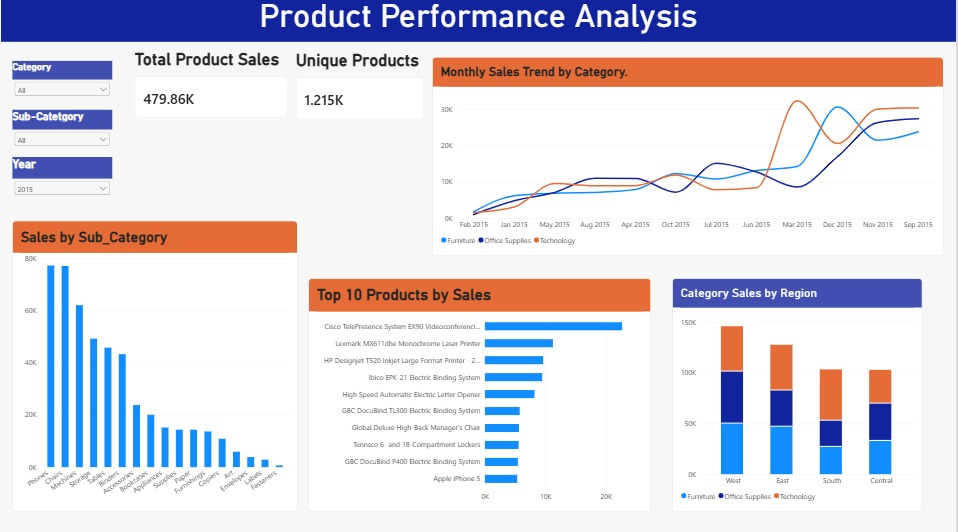

This screenshot's page, from the dashboard's own definition file:
{"tool":"powerbi","page":{"name":"Page 2","canvas":[1920,1080],"ordinal":1},"visuals":[{"type":"textbox","title":"Product Performance Analysis","box":[10,0,1910,280],"z":0},{"type":"cardVisual","title":"Total Product Sales","fields":{"Data":["Sum(superstore_cleaned.Sales)"]},"box":[277.5,105,305,137.5],"z":1},{"type":"cardVisual","title":"Unique Products","fields":{"Data":["Count(superstore_cleaned.Product_ID)"]},"box":[600,107.5,255,137.5],"z":2},{"type":"slicer","title":"Category","fields":{"Values":["superstore_cleaned.Category"]},"box":[32.9,127.1,200,114.3],"z":3},{"type":"slicer","title":"Sub-Catetgory","fields":{"Values":["superstore_cleaned.Sub_Category"]},"box":[32.9,225.7,200,187.1],"z":4},{"type":"slicer","title":"Year","fields":{"Values":["Calendar.Year"]},"box":[32.9,320,200,92.9],"z":5},{"type":"clusteredBarChart","title":"Top 10 Products by Sales","fields":{"Category":["superstore_cleaned.Product_Name"],"Y":["Sum(superstore_cleaned.Sales)"]},"box":[625,562.5,685,467.5],"z":6},{"type":"clusteredColumnChart","title":" Sales by Sub_Category","fields":{"Category":["superstore_cleaned.Sub_Category"],"Y":["Sum(superstore_cleaned.Sales)"]},"box":[32.5,447.5,570,582.5],"z":7},{"type":"columnChart","title":" Category Sales by Region","fields":{"Category":["superstore_cleaned.Region"],"Series":["superstore_cleaned.Category"],"Y":["Sum(superstore_cleaned.Sales)"]},"box":[1352.5,562.5,500,466.7],"z":8},{"type":"lineChart","title":"Monthly Sales Trend by Category.","fields":{"Category":["Calendar.Year-Month"],"Series":["superstore_cleaned.Category"],"Y":["Sum(superstore_cleaned.Sales)"]},"box":[872.5,120,1022.5,397.5],"z":9}]}

Visuals, with their boxes in screenshot pixels (x1, y1, x2, y2), scaled from the page's 1920x1080 canvas onto the 958x532 screenshot:
"Product Performance Analysis" textbox: <bbox>5, 0, 957, 138</bbox>
"Total Product Sales" cardVisual: <bbox>138, 52, 291, 119</bbox>
"Unique Products" cardVisual: <bbox>299, 53, 427, 121</bbox>
"Category" slicer: <bbox>16, 63, 116, 119</bbox>
"Sub-Catetgory" slicer: <bbox>16, 111, 116, 203</bbox>
"Year" slicer: <bbox>16, 158, 116, 203</bbox>
"Top 10 Products by Sales" clusteredBarChart: <bbox>312, 277, 654, 507</bbox>
" Sales by Sub_Category" clusteredColumnChart: <bbox>16, 220, 301, 507</bbox>
" Category Sales by Region" columnChart: <bbox>675, 277, 924, 507</bbox>
"Monthly Sales Trend by Category." lineChart: <bbox>435, 59, 946, 255</bbox>
